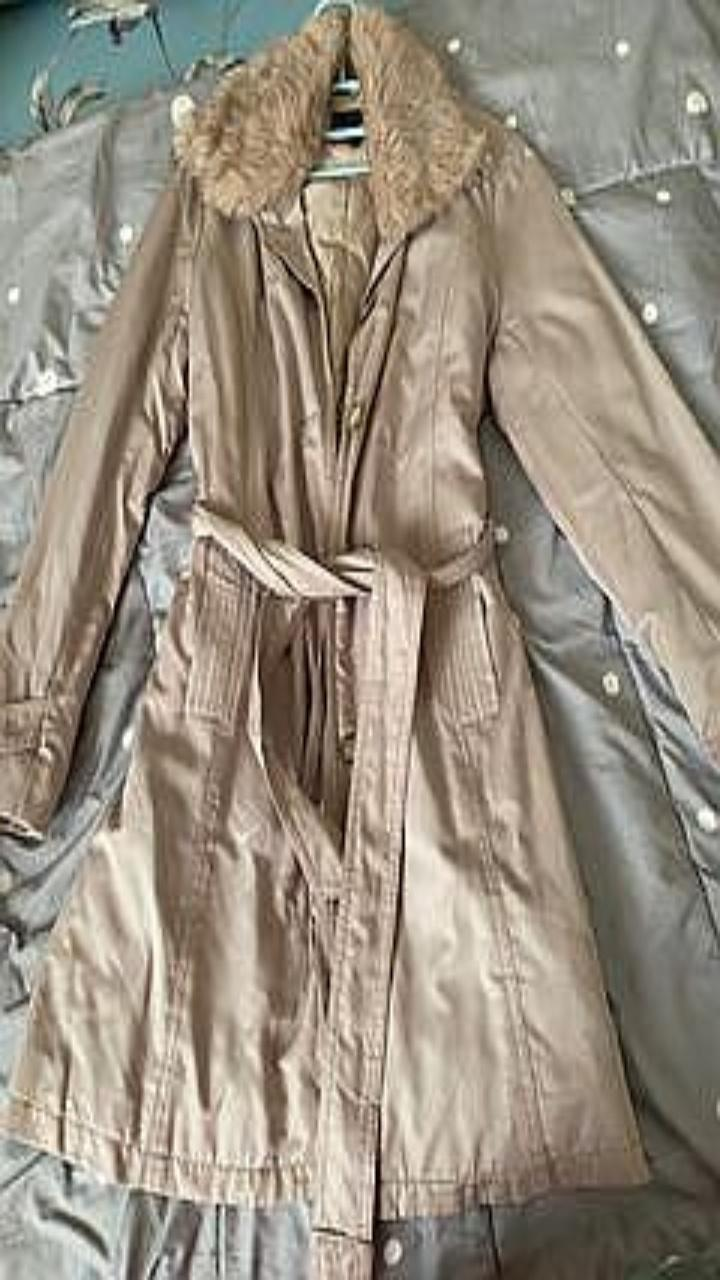Coat: (0, 7, 719, 1279)
